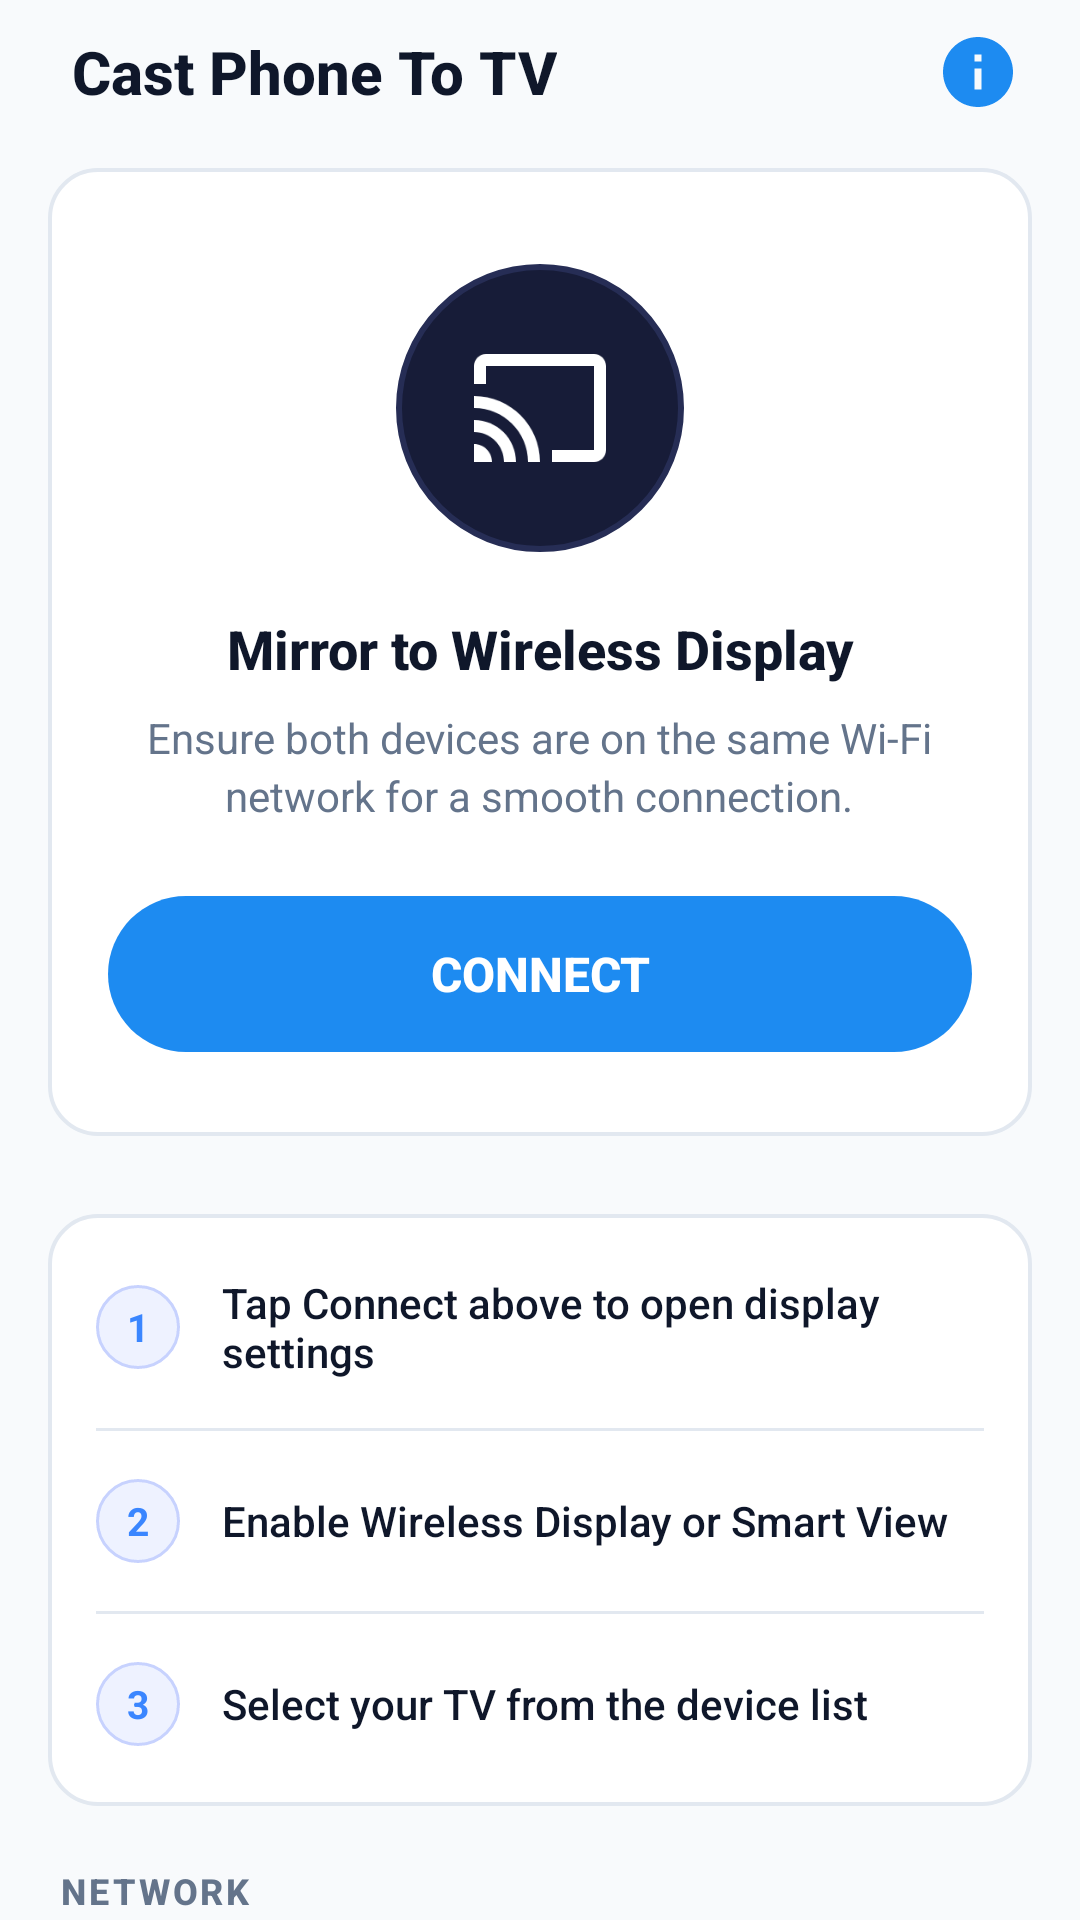

Named icons in this screenshot (1080*1920) and their centers, point (x, y):
Screen Cast: point (540, 408)
